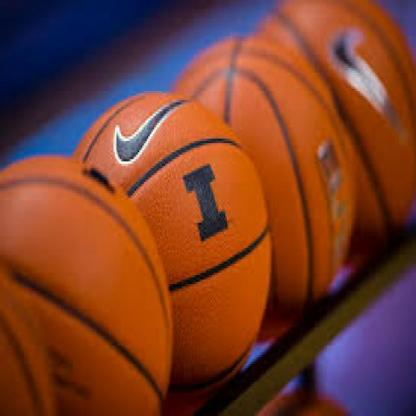basketball: (76, 91, 274, 391), (171, 34, 355, 316), (0, 152, 176, 414), (256, 0, 414, 250)
